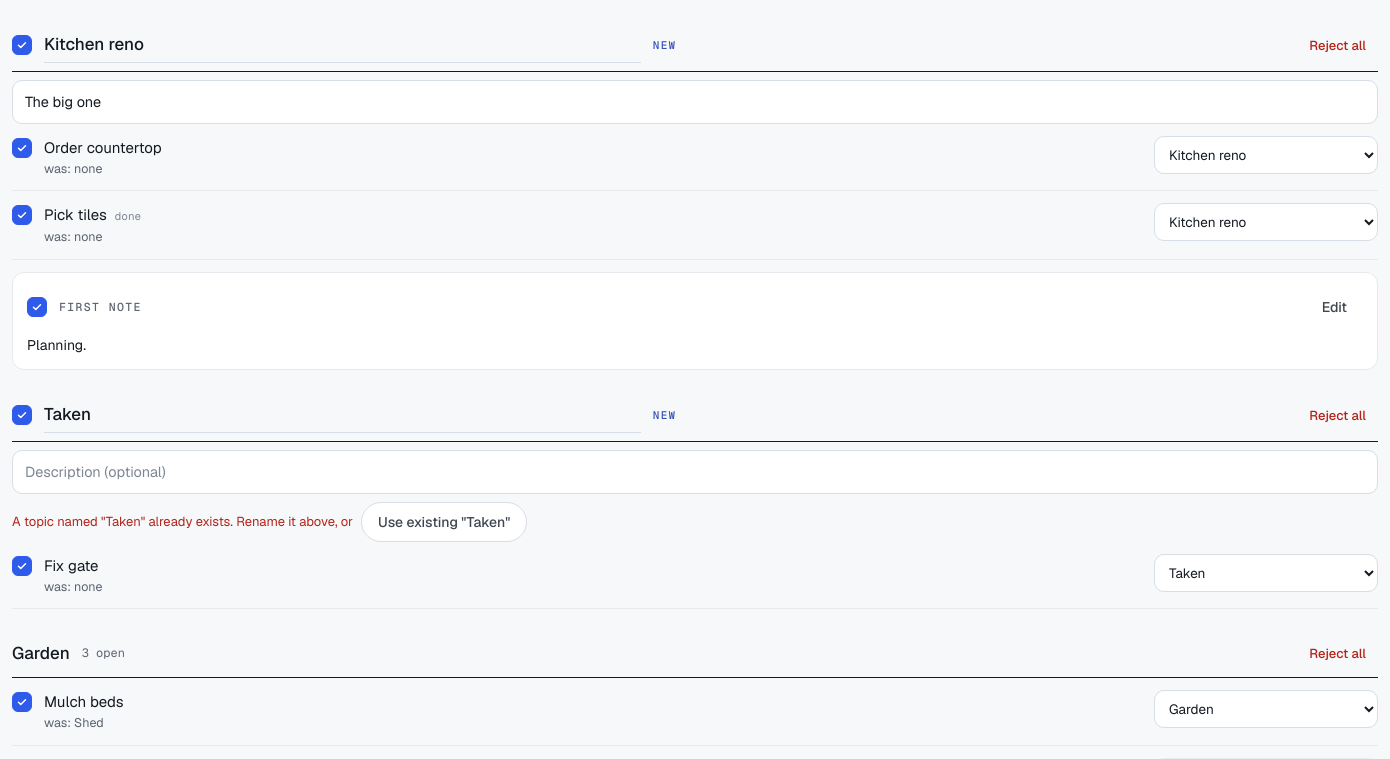
Test: review sections › unchecking a new topic greys its rows with "needs a topic"
Click the checkbox named "Keep new topic \"Kitchen reno\"". click: (22, 45)
box: x1=12 y1=35 x2=32 y2=55
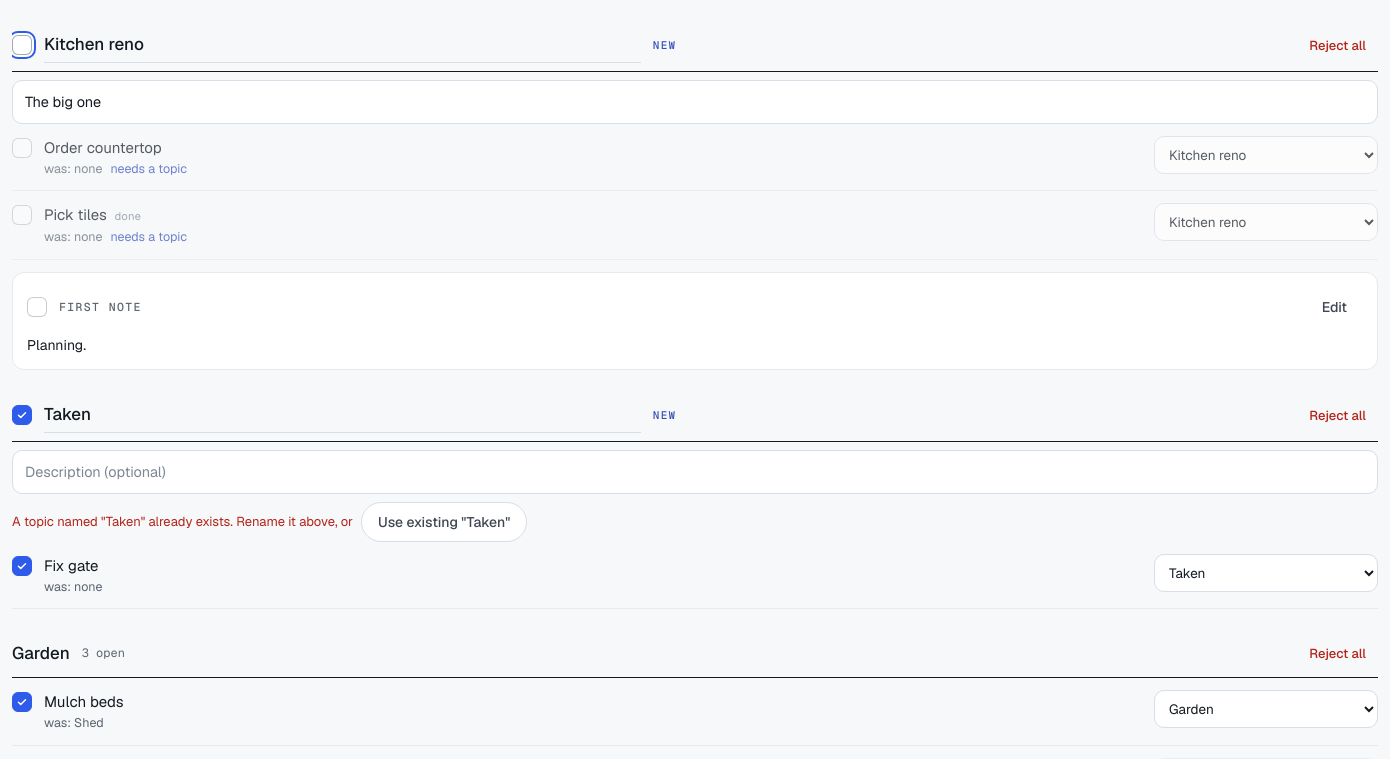
Check: the text "needs a topic" is shown 2 times, box x1=110 y1=160 x2=187 y2=176; x1=110 y1=228 x2=187 y2=245
Check: the checkbox named "Accept \"Order countertop\"" is disabled, box x1=12 y1=138 x2=32 y2=158
